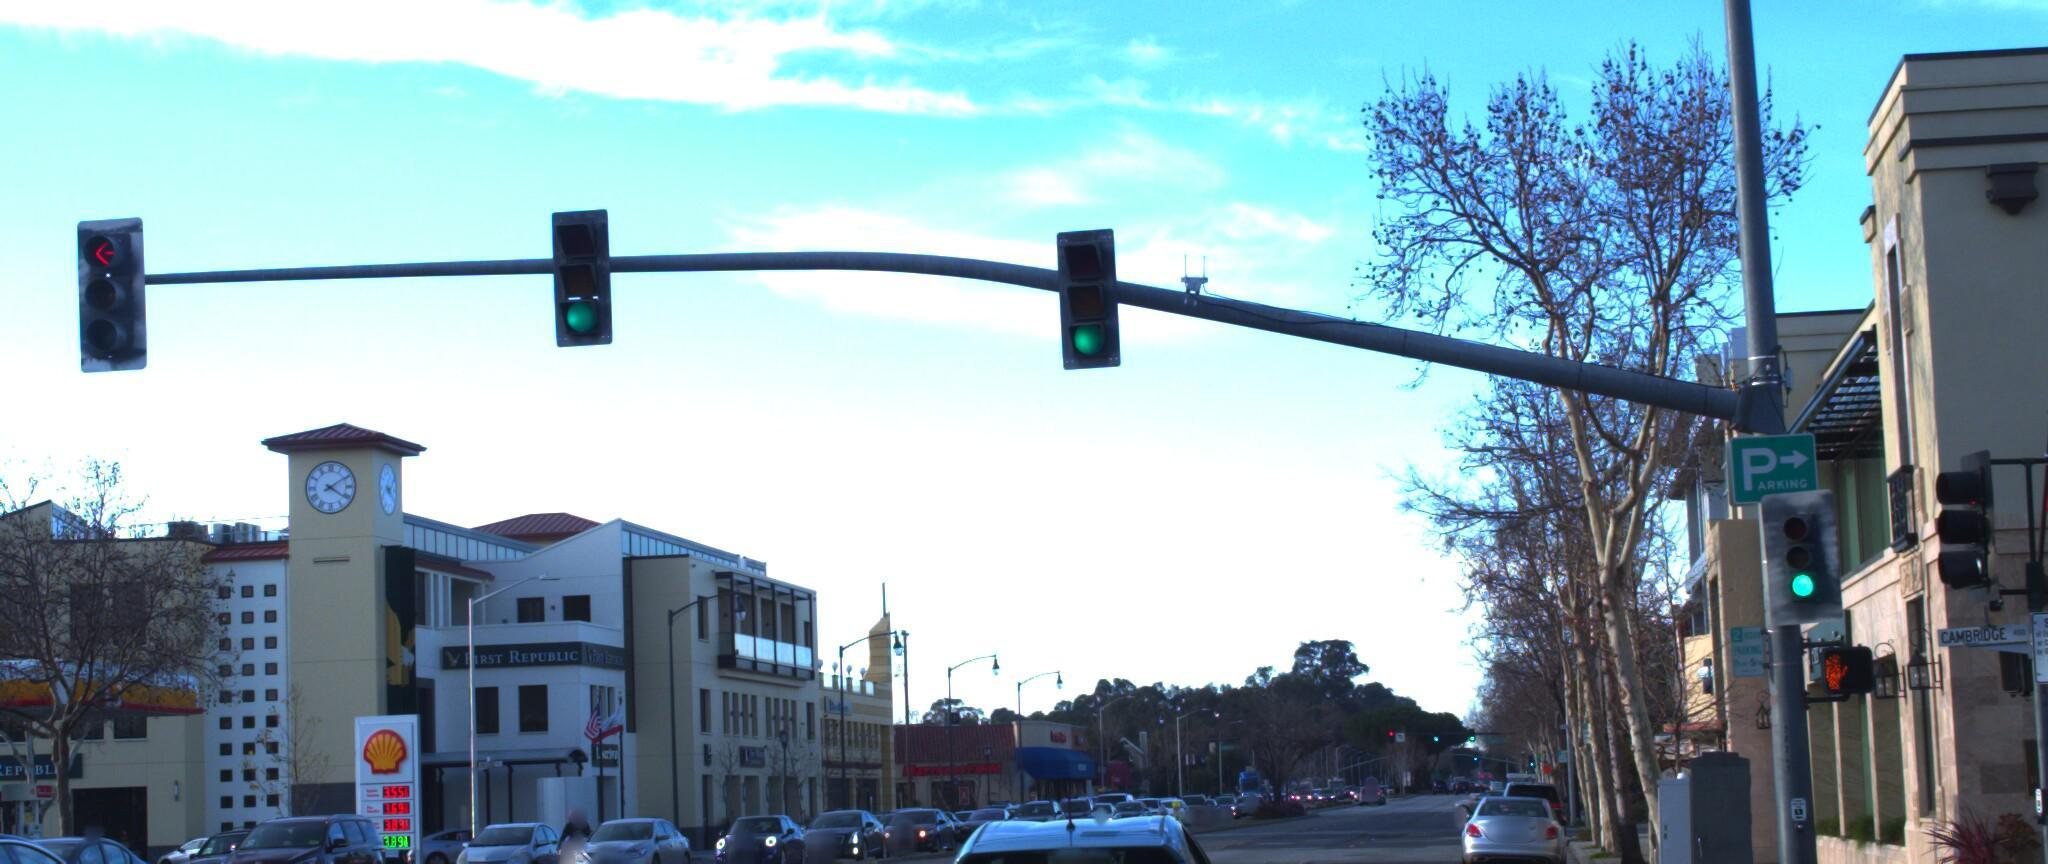car: (899, 784, 1250, 864), (205, 792, 414, 864), (0, 799, 199, 864), (1441, 779, 1554, 864), (564, 800, 701, 864), (0, 818, 182, 864), (438, 805, 577, 864), (701, 797, 812, 864), (780, 799, 886, 860), (0, 820, 103, 864)
